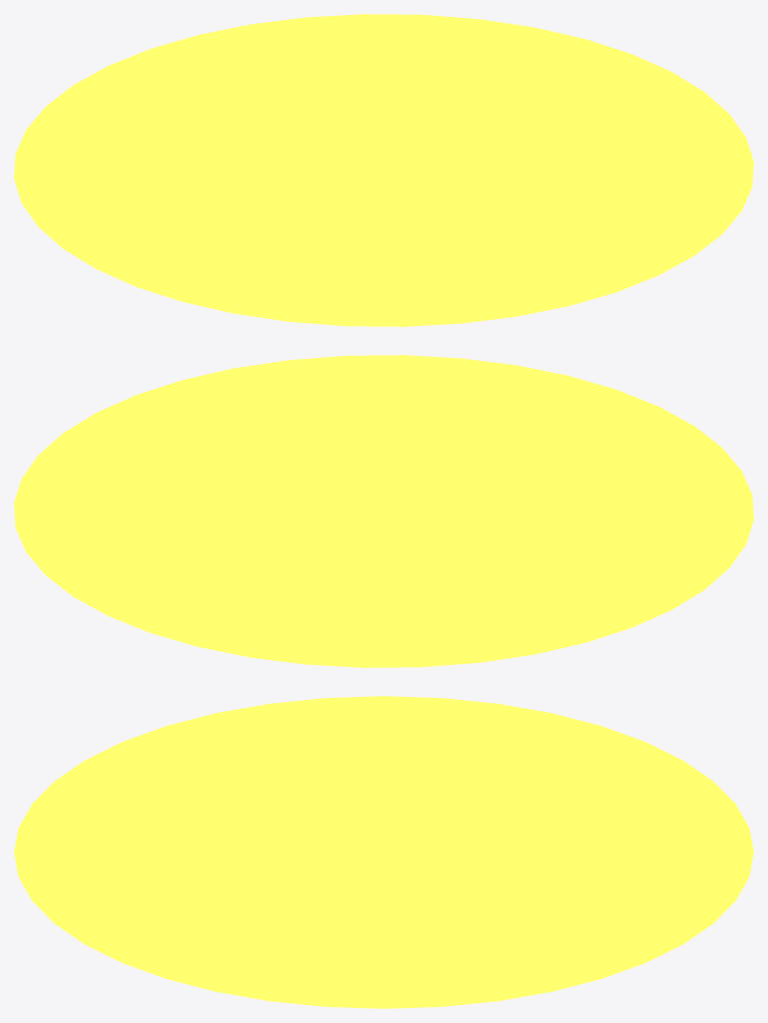
File: SM_Volcano_Lava_NoCol.fbx
3 renders of one model, top to bottom at view 1: azimuth 30°, elevation 25°; view 2: azimuth 150°, elevation 25°; view 3: azimuth 270°, elevation 25°, orthographic.
Visible parts, largest first — view 1: SM_Volcano_Lava_NoCol; view 2: SM_Volcano_Lava_NoCol; view 3: SM_Volcano_Lava_NoCol.
Part boxes in pixels (<box>): SM_Volcano_Lava_NoCol: <box>14,14,753,326</box>; SM_Volcano_Lava_NoCol: <box>14,355,753,667</box>; SM_Volcano_Lava_NoCol: <box>14,696,753,1008</box>.
Bounding box in the file's own units: 124 × 5.42e-06 × 124.
